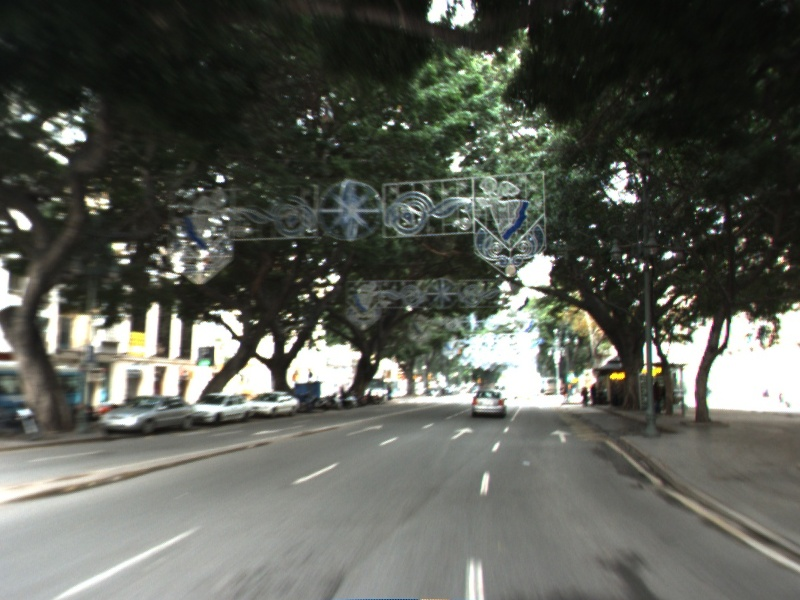STRAIGHT: (344, 422, 385, 438), (548, 427, 574, 445), (449, 425, 477, 441)
